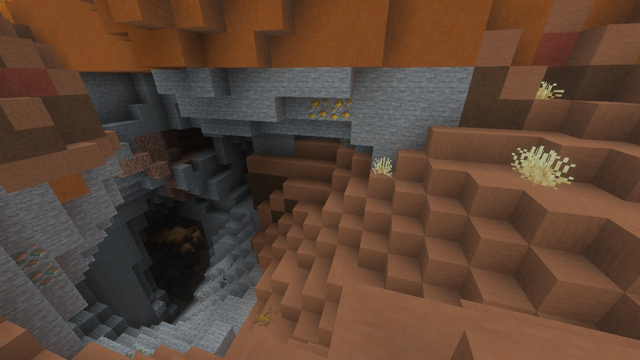coal: (215, 269, 233, 292)
copper: (9, 241, 63, 291)
gold: (306, 94, 354, 122)
